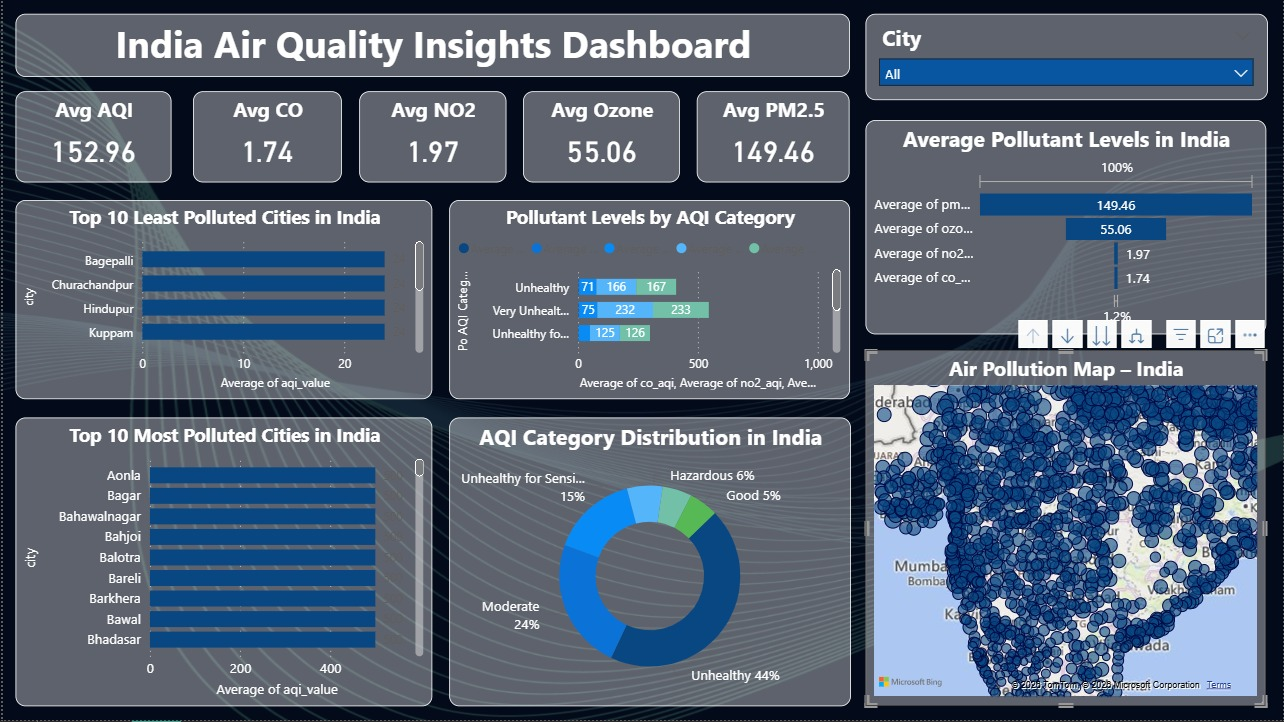

Layout of this report page (visuals, bound fields, positions):
{"tool":"powerbi","page":{"name":"Page 1","canvas":[1280,720],"ordinal":0},"visuals":[{"type":"clusteredBarChart","title":"Top 10 Most Polluted Cities in India","fields":{"Category":["public pollution.city"],"Y":["Avg(public pollution.aqi_value)"]},"box":[12.9,417.1,417.1,288.6],"z":0},{"type":"textbox","title":"India Air Quality Insights Dashboard","box":[12.9,14.3,834.3,62.9],"z":1000},{"type":"donutChart","title":"AQI Category Distribution in India","fields":{"Y":["CountNonNull(public pollution.aqi_category)"],"Category":["public pollution.aqi_category"]},"box":[445.7,417.1,401.4,288.6],"z":2000},{"type":"slicer","fields":{"Values":["public pollution.city"]},"box":[863.1,13.7,402.1,86.4],"z":3000},{"type":"funnel","title":"Average Pollutant Levels in India","fields":{"Y":["Avg(public pollution.pm25_aqi)","Avg(public pollution.ozone_aqi)","Avg(public pollution.no2_aqi)","Avg(public pollution.co_aqi)"]},"box":[863.1,119.4,400.7,214.1],"z":4000},{"type":"card","title":"Avg AQI","fields":{"Values":["Avg(public pollution.aqi_value)"]},"box":[12.9,91.4,155.7,91.4],"z":5000},{"type":"card","title":"Avg NO2","fields":{"Values":["Avg(public pollution.no2_aqi)"]},"box":[355.7,91.4,147.1,91.4],"z":6000},{"type":"card","title":"Avg Ozone","fields":{"Values":["Avg(public pollution.ozone_aqi)"]},"box":[520,91.4,157.1,91.4],"z":7000},{"type":"card","title":"Avg PM2.5","fields":{"Values":["Avg(public pollution.pm25_aqi)"]},"box":[694.3,91.4,152.9,91.4],"z":8000},{"type":"card","title":"Avg CO","fields":{"Values":["Avg(public pollution.co_aqi)"]},"box":[190,91.4,148.6,91.4],"z":9000},{"type":"map","title":"Air Pollution Map – India","fields":{"Category":["public pollution.city","public pollution.country"],"Size":["Avg(public pollution.aqi_value)"]},"box":[862.9,350,400,355.7],"z":10000},{"type":"clusteredBarChart","title":"Top 10 Least Polluted Cities in India","fields":{"Category":["public pollution.city"],"Y":["Avg(public pollution.aqi_value)"]},"box":[12.3,200.3,417.2,199],"z":11000},{"type":"barChart","title":"Pollutant Levels by AQI Category","fields":{"Category":["public pollution.aqi_category"],"Y":["Avg(public pollution.co_aqi)","Avg(public pollution.no2_aqi)","Avg(public pollution.ozone_aqi)","Avg(public pollution.pm25_aqi)","Avg(public pollution.aqi_value)"]},"box":[446,200.3,400.7,199],"z":12000}]}

Visuals, with their boxes in screenshot pixels (x1, y1, x2, y2), scaled from the page's 1280x720 canvas onto the 1284x722 screenshot:
"Top 10 Most Polluted Cities in India" clusteredBarChart: <box>13,418,431,708</box>
"India Air Quality Insights Dashboard" textbox: <box>13,14,850,77</box>
"AQI Category Distribution in India" donutChart: <box>447,418,850,708</box>
slicer - public pollution.city: <box>866,14,1269,100</box>
"Average Pollutant Levels in India" funnel: <box>866,120,1268,334</box>
"Avg AQI" card: <box>13,92,169,183</box>
"Avg NO2" card: <box>357,92,504,183</box>
"Avg Ozone" card: <box>522,92,679,183</box>
"Avg PM2.5" card: <box>696,92,850,183</box>
"Avg CO" card: <box>191,92,340,183</box>
"Air Pollution Map – India" map: <box>866,351,1267,708</box>
"Top 10 Least Polluted Cities in India" clusteredBarChart: <box>12,201,431,400</box>
"Pollutant Levels by AQI Category" barChart: <box>447,201,849,400</box>
